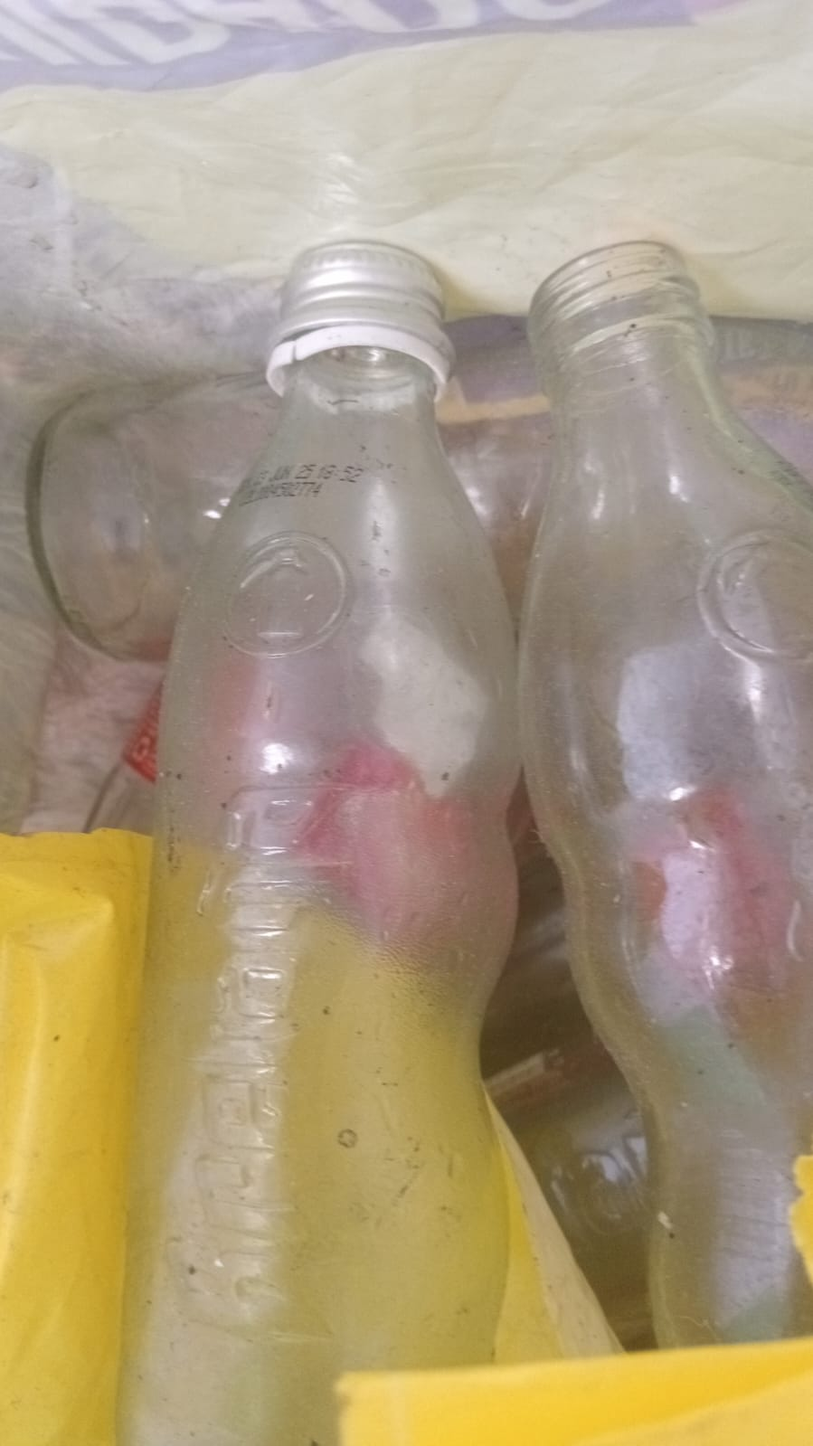Metal: (278, 242, 450, 349)
Vidrio: (121, 345, 516, 1446), (524, 242, 805, 1333)
